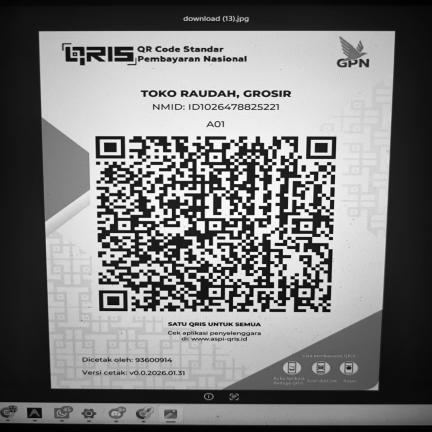Cara Pakai QRIS: (268, 352, 377, 390)
Cek Aplikasi Penyelenggara: (162, 330, 268, 344)
Dicetak Oleh: (78, 355, 178, 366)
Logo GPN: (329, 33, 378, 72)
Logo dan deskripsi QRIS: (53, 41, 258, 67)
Nama Merchant: (130, 86, 304, 100)
National Merchant ID: (130, 101, 303, 115)
QR Code: (91, 132, 342, 316)
Slogan: (162, 319, 266, 329)
Terminal ID: (198, 119, 234, 130)
Versi Cetak: (79, 366, 194, 377)
